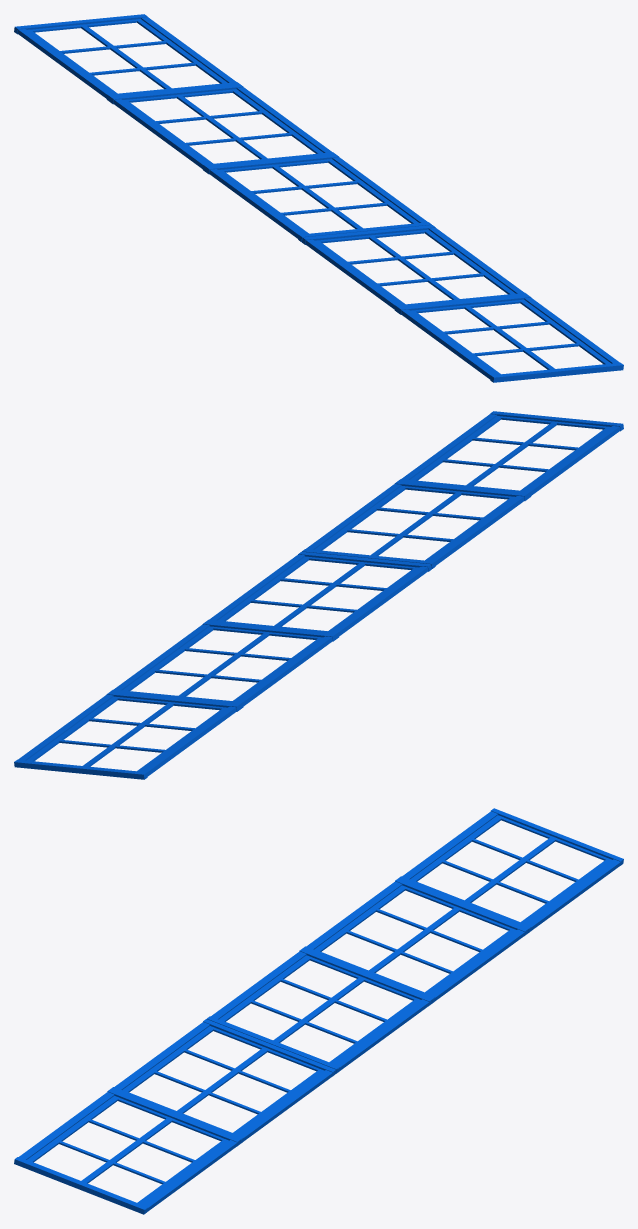
Rendered from Warehouse_02_Window_01.fbx.
3 views of the same model, one above another, from view 1: azimuth 30°, elevation 25°; view 2: azimuth 150°, elevation 25°; view 3: azimuth 330°, elevation 25° (orthographic).
Parts seen in each view (by area): view 1: Warehouse_02_Window_01; view 2: Warehouse_02_Window_01; view 3: Warehouse_02_Window_01.
Boxes of the visible parts, bbox=[...] form: Warehouse_02_Window_01: bbox=[14, 14, 623, 382]; Warehouse_02_Window_01: bbox=[14, 411, 623, 779]; Warehouse_02_Window_01: bbox=[14, 808, 623, 1214].
Bounding box in the file's own units: 389 × 68.59 × 2473.
